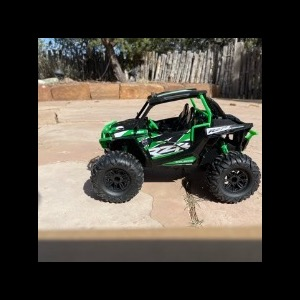polaris: (91, 87, 262, 205)
